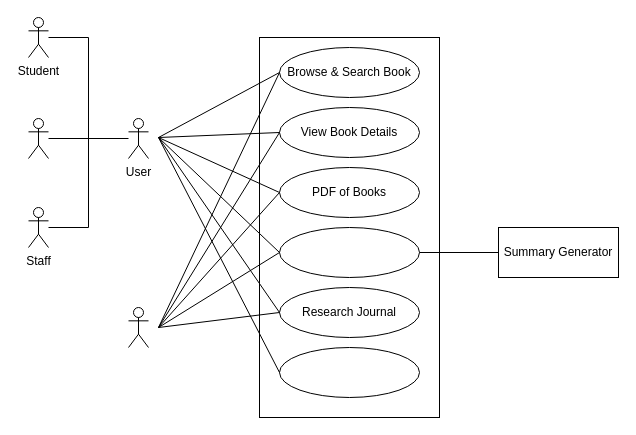
Some shapes in this 636 by 435 pixel diagram are drawn without their labels. The shapes that lost their labels are listed below. From the top down, each one's centre as x and y in pixels, then its label:
point (38, 138): Teacher
point (349, 252): PDF Summary
point (138, 327): Librarian
point (349, 372): Rate and Reviews
